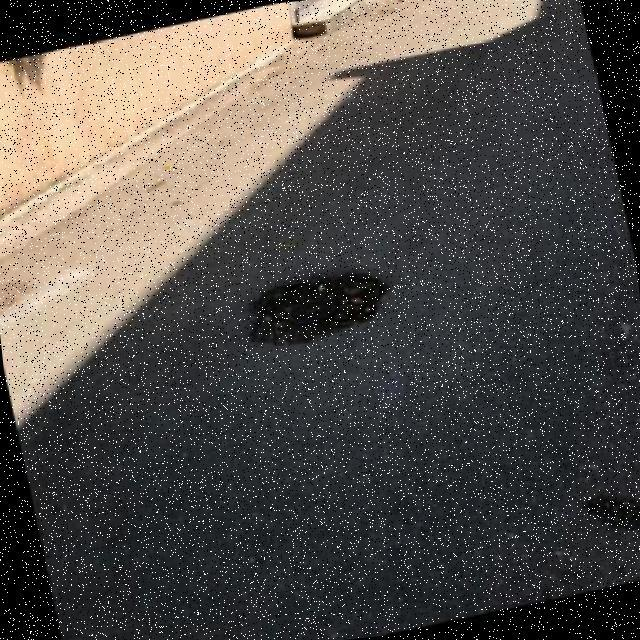Pothole: (250, 272, 391, 345)
